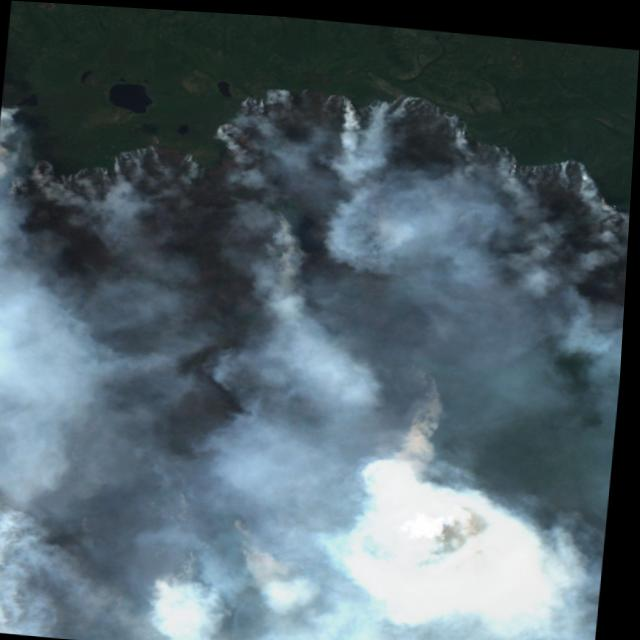fire: (0, 101, 205, 190), (399, 80, 532, 174), (224, 74, 409, 127), (528, 148, 633, 214), (206, 107, 251, 176)
